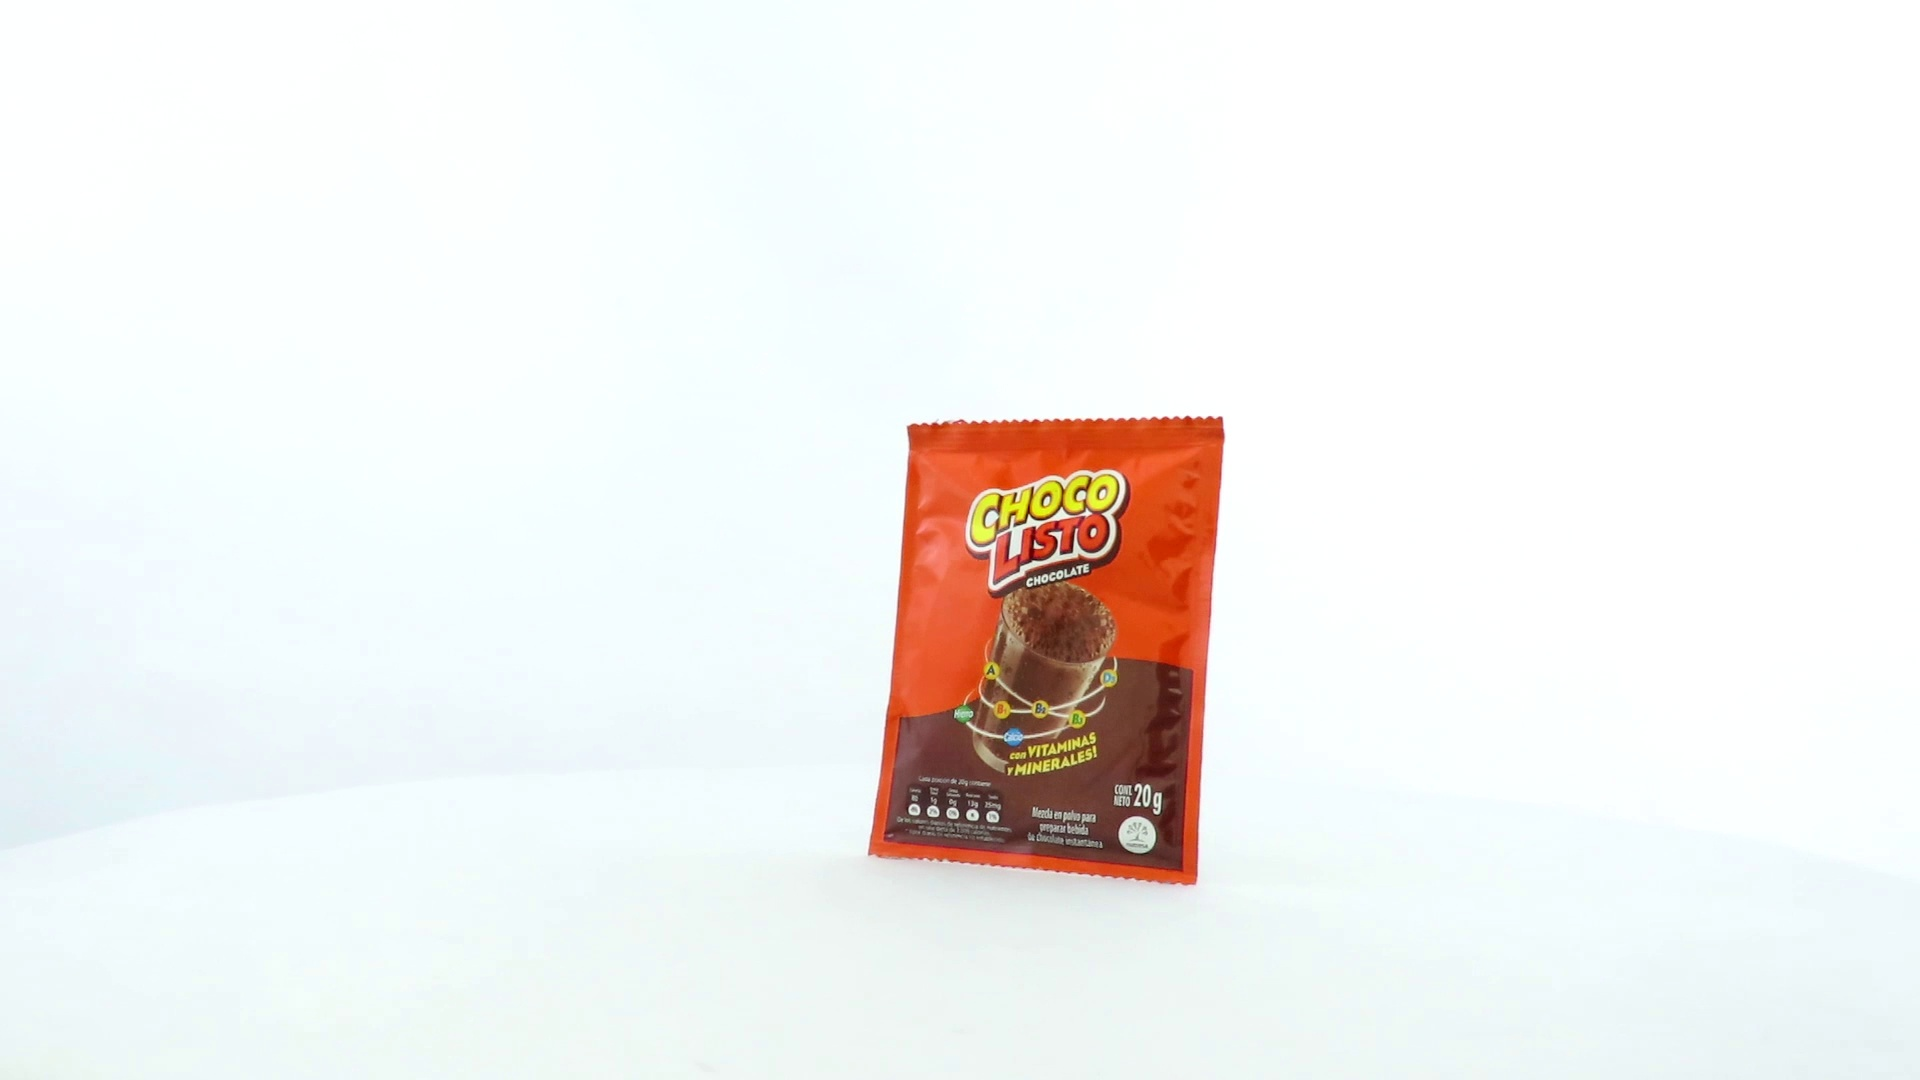COL0170103SOB02000: (862, 410, 1232, 891)
